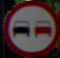No overtake: (3, 4, 54, 49)
